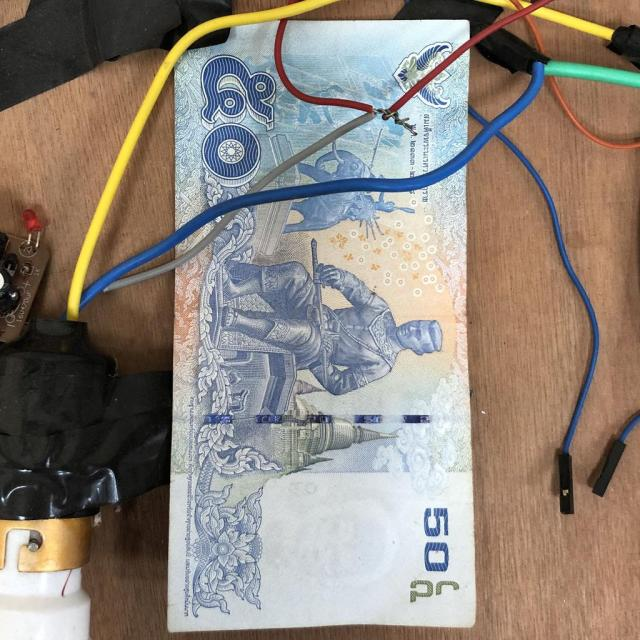THAI50: (168, 169, 475, 632), (174, 21, 363, 228), (268, 52, 468, 188), (282, 21, 469, 109), (175, 221, 219, 258)
